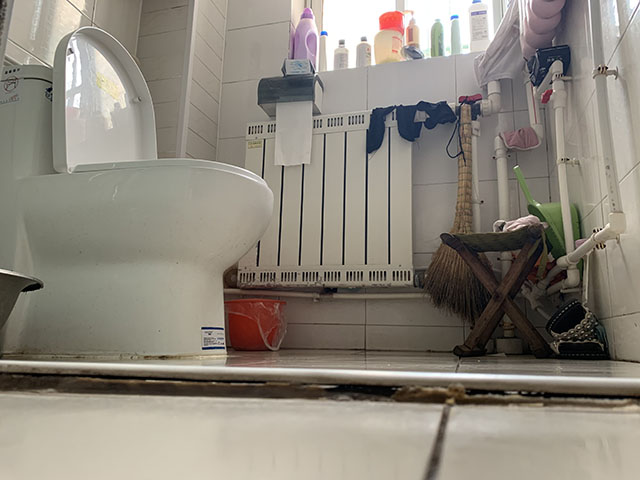closestool: (1, 24, 276, 360)
stool: (437, 223, 559, 360)
trashcan: (225, 298, 288, 352)
